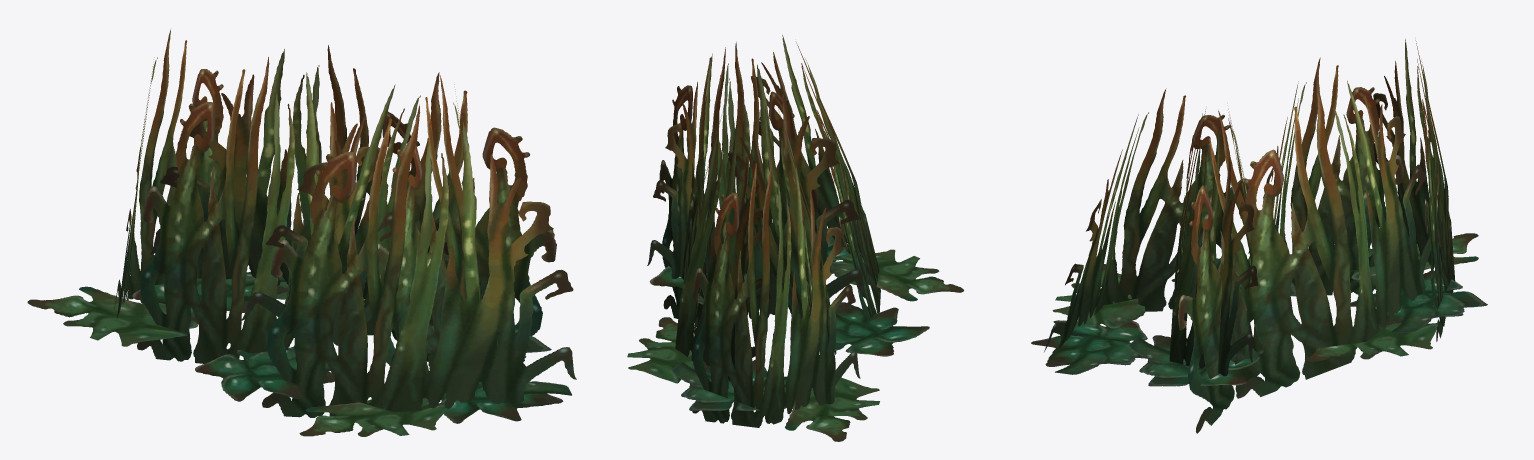
File: stemple_grass_blank_08.fbx
3 renders of one model, left to right at view 1: azimuth 30°, elevation 25°; view 2: azimuth 150°, elevation 25°; view 3: azimuth 270°, elevation 25°, orthographic. The views are drawn at different scales.
Visible parts, largest first — view 1: sunken_tileset/sunken_plants01_mat; view 2: sunken_tileset/sunken_plants01_mat; view 3: sunken_tileset/sunken_plants01_mat.
Part boxes in pixels (<box>): sunken_tileset/sunken_plants01_mat: <box>27,29,576,436</box>; sunken_tileset/sunken_plants01_mat: <box>627,35,963,441</box>; sunken_tileset/sunken_plants01_mat: <box>1031,39,1487,433</box>.
Bounding box in the file's own units: 2.69 × 2.13 × 3.12.
